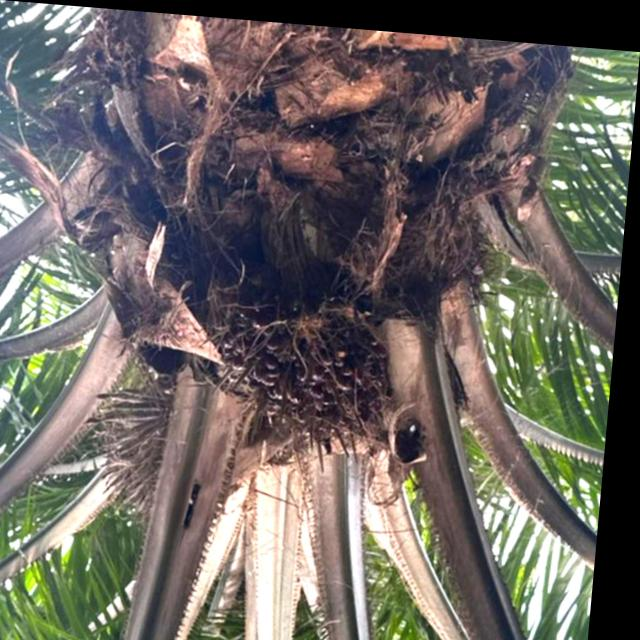ripe: (222, 285, 396, 437)
